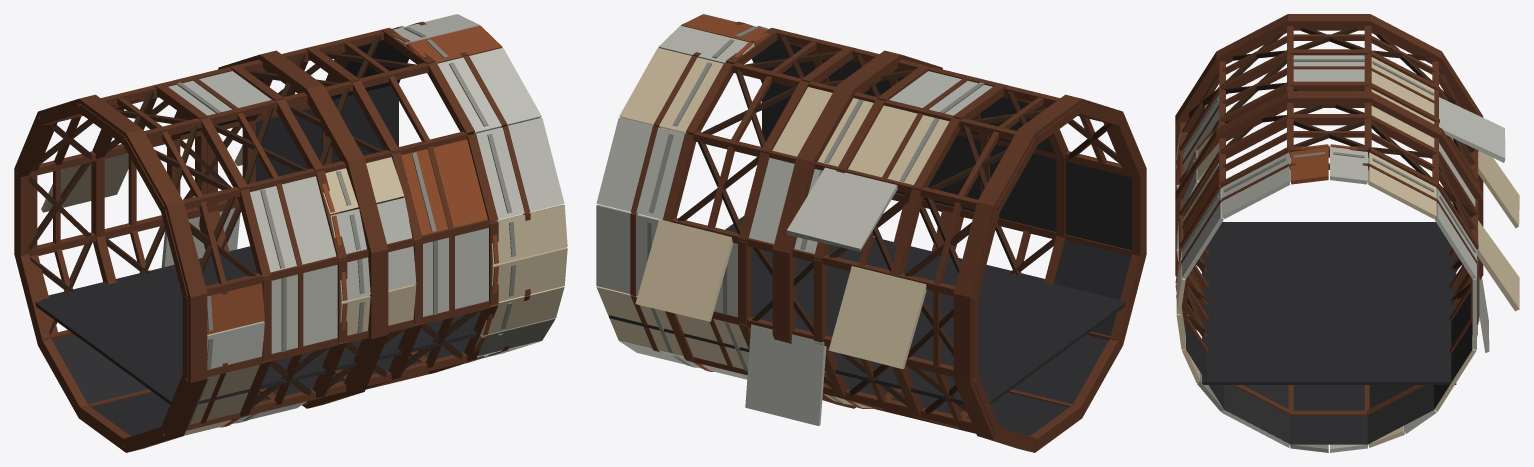
The model's file is ship_hull_ribs.glb.
3 renders of one model, left to right at view 1: azimuth 30°, elevation 25°; view 2: azimuth 150°, elevation 25°; view 3: azimuth 270°, elevation 25°, orthographic. The views are drawn at different scales.
Visible parts, largest first — view 1: ship_hull_ribs; view 2: ship_hull_ribs; view 3: ship_hull_ribs.
Boxes of the visible parts, bbox=[...] form: ship_hull_ribs: bbox=[14, 14, 567, 452]; ship_hull_ribs: bbox=[596, 14, 1146, 452]; ship_hull_ribs: bbox=[1175, 14, 1519, 452].
Bounding box in the file's own units: 45.1 × 36.32 × 40.63.
